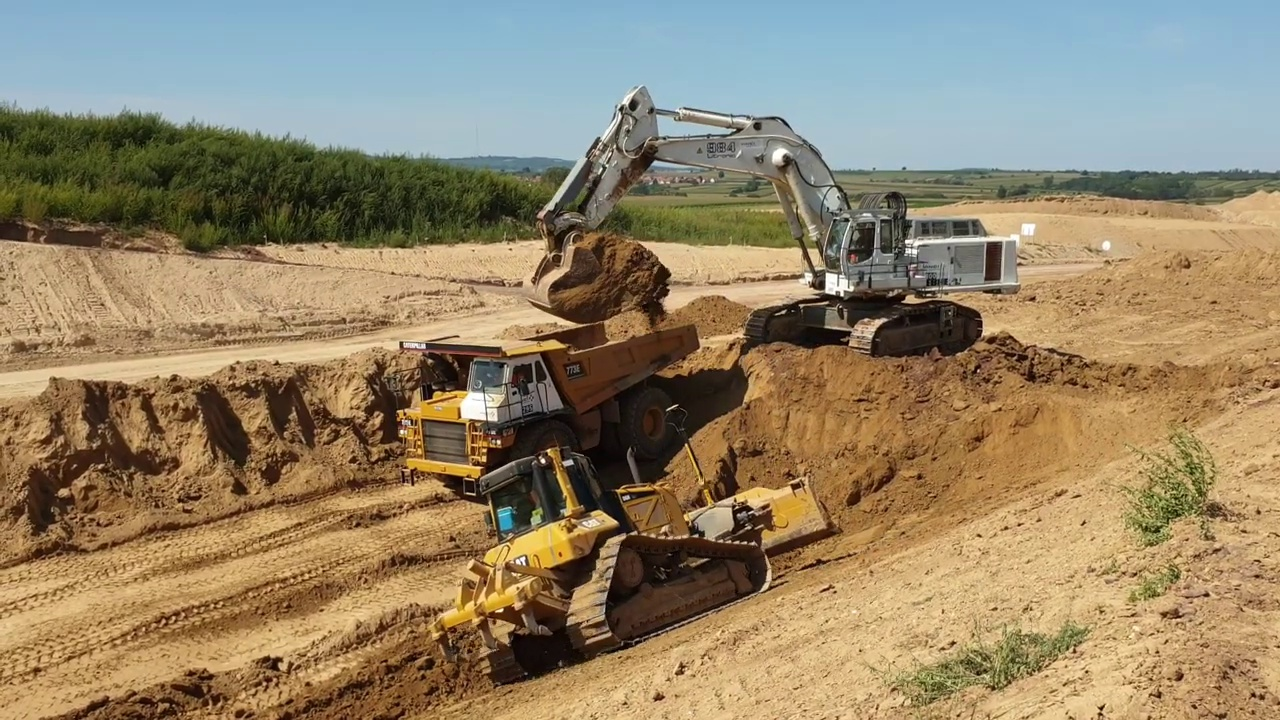bulldozer: (428, 403, 840, 689)
excavator: (523, 81, 1026, 361)
truck: (395, 320, 708, 512)
